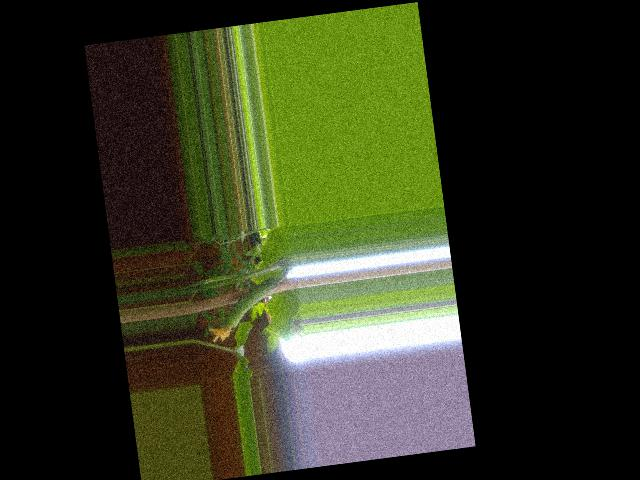cucumber: (203, 278, 283, 343)
